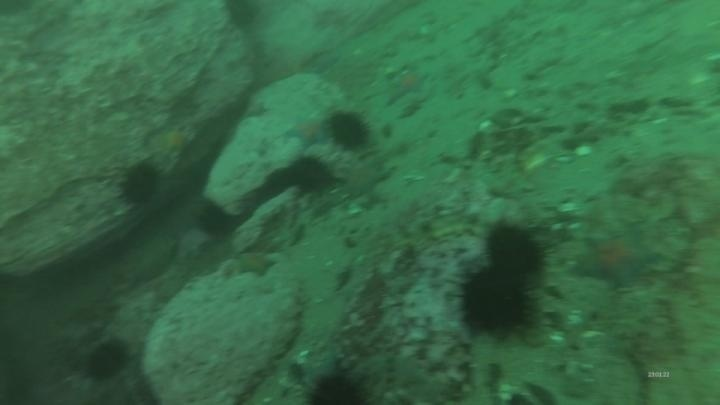echinus: (457, 267, 535, 338), (482, 221, 548, 279), (304, 369, 373, 404), (117, 160, 163, 208), (82, 339, 130, 384), (287, 154, 335, 196), (326, 109, 372, 152), (195, 201, 235, 240), (221, 1, 263, 31)
holothurian: (397, 210, 485, 253)
starfish: (572, 225, 662, 291), (337, 160, 389, 200), (282, 113, 332, 150), (149, 123, 195, 160), (234, 249, 280, 280), (388, 66, 430, 98)
